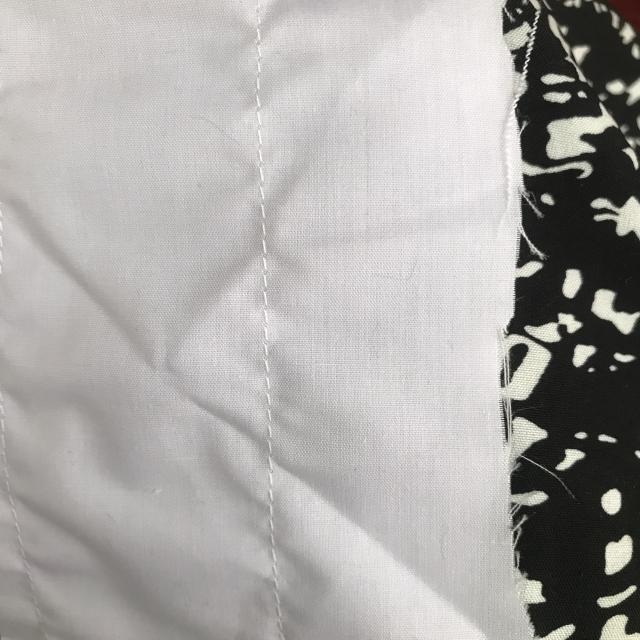good: (244, 142, 286, 301), (262, 451, 292, 587), (237, 43, 278, 127), (258, 333, 285, 440)
